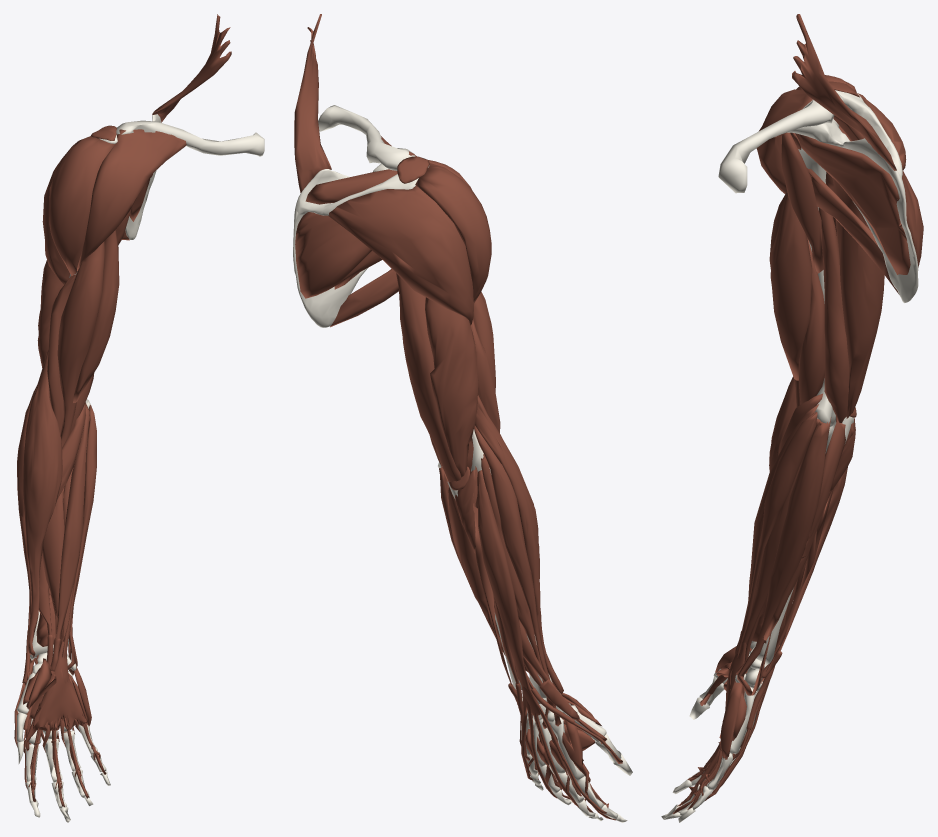
Rendered from upper_limb_right.glb.
The picture shows the model from 3 angles, left to right: view 1: azimuth 30°, elevation 25°; view 2: azimuth 150°, elevation 25°; view 3: azimuth 270°, elevation 25°; orthographic projection. The views are drawn at different scales.
Parts seen in each view (by area): view 1: Brachioradialis muscle.005, Clavicular part of deltoid muscle.003, Acromial part of deltoid muscle.003, Long head of biceps brachii.003, Flexor carpi radialis.001, Short head of biceps brachii.001, Palmaris longus muscle.001, Clavicle.001, Brachialis muscle.005, Common flexor tendon sheath.001, Radial head of flexor digitorum superficialis.001, Levator scapulae.011 (+10 smaller); view 2: Scapular spinal part of deltoid muscle.003, Lateral head of triceps brachii.003, Extensor digitorum.017, Infraspinatus muscle.005, Long head of triceps brachii.003, Acromial part of deltoid muscle.003, Extensor carpi radialis longus.005, Scapula.003, Brachioradialis muscle.005, Levator scapulae.011, Clavicle.001, Ulnar head of flexor carpi ulnaris.003 (+9 smaller); view 3: Long head of triceps brachii.003, Subscapularis muscle.005, Humeral head of flexor carpi ulnaris.001, Short head of biceps brachii.001, Scapula.003, Medial head of triceps brachii.003, Palmaris longus muscle.001, Levator scapulae.011, Coracobrachialis muscle.003, Clavicle.001, Brachialis muscle.005, Ulnar head of flexor carpi ulnaris.003 (+16 smaller).
Part boxes in pixels (x1,y1,x2,y2): Brachioradialis muscle.005: (23, 349, 62, 657); Clavicular part of deltoid muscle.003: (77, 129, 186, 270); Acromial part of deltoid muscle.003: (49, 136, 115, 275); Long head of biceps brachii.003: (57, 241, 104, 447); Flexor carpi radialis.001: (55, 402, 89, 653); Short head of biceps brachii.001: (73, 229, 119, 402); Palmaris longus muscle.001: (32, 405, 96, 731); Clavicle.001: (116, 120, 264, 156); Brachialis muscle.005: (47, 274, 94, 434); Common flexor tendon sheath.001: (38, 641, 92, 745); Radial head of flexor digitorum superficialis.001: (42, 492, 64, 647); Levator scapulae.011: (152, 14, 231, 122); Scapular spinal part of deltoid muscle.003: (328, 185, 473, 325); Lateral head of triceps brachii.003: (425, 297, 478, 477); Extensor digitorum.017: (477, 470, 606, 813); Infraspinatus muscle.005: (295, 212, 371, 298); Long head of triceps brachii.003: (396, 273, 461, 482); Acromial part of deltoid muscle.003: (415, 163, 491, 303); Extensor carpi radialis longus.005: (474, 425, 561, 726); Scapula.003: (293, 163, 429, 327); Brachioradialis muscle.005: (475, 395, 563, 695); Levator scapulae.011: (294, 14, 331, 193); Clavicle.001: (318, 105, 415, 170); Ulnar head of flexor carpi ulnaris.003: (448, 486, 505, 655); Long head of triceps brachii.003: (832, 178, 884, 418); Subscapularis muscle.005: (795, 133, 910, 274); Humeral head of flexor carpi ulnaris.001: (736, 417, 831, 695); Short head of biceps brachii.001: (770, 135, 812, 380); Scapula.003: (787, 90, 918, 302); Medial head of triceps brachii.003: (818, 208, 849, 422); Palmaris longus muscle.001: (719, 412, 817, 750); Levator scapulae.011: (792, 14, 896, 170); Coracobrachialis muscle.003: (781, 132, 823, 273); Clavicle.001: (718, 93, 844, 193); Brachialis muscle.005: (798, 238, 824, 404); Ulnar head of flexor carpi ulnaris.003: (763, 416, 845, 640).
Bounding box in the file's own units: 0.3229 × 0.8407 × 0.2143.
